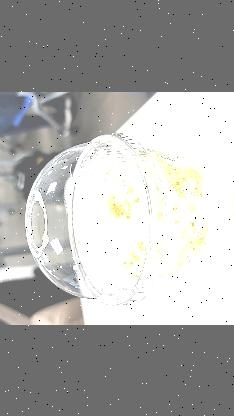Others: (23, 131, 234, 309), (24, 132, 168, 308)
